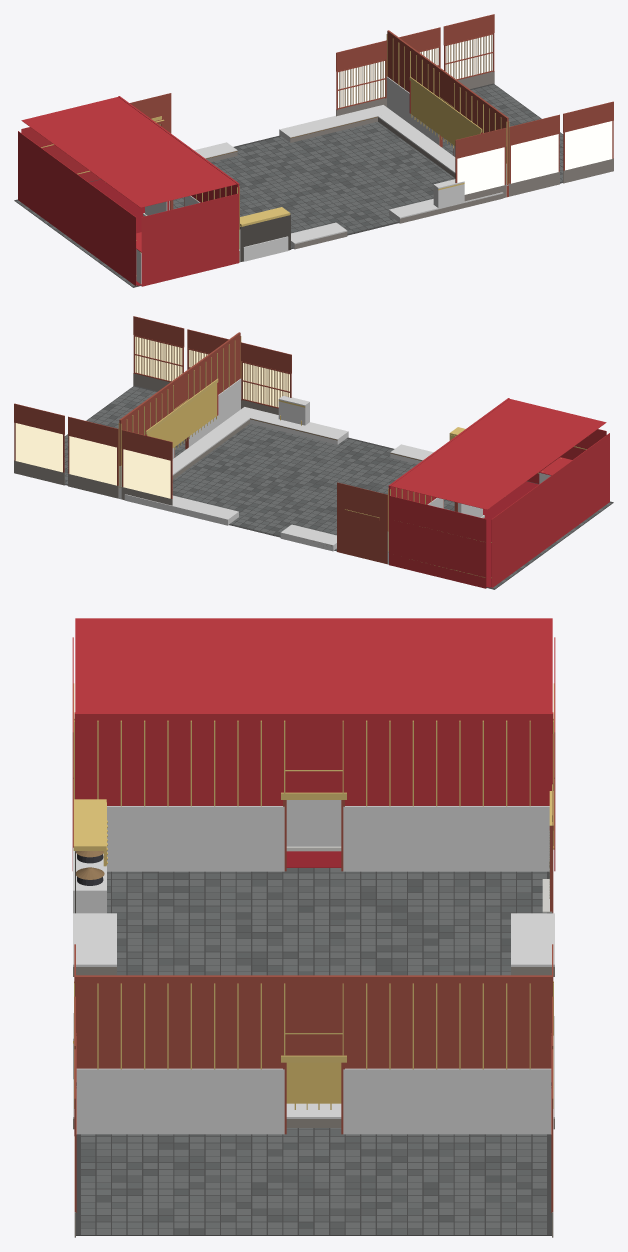
The model's file is kunning.glb.
3 renders of one model, top to bottom at view 1: azimuth 30°, elevation 25°; view 2: azimuth 150°, elevation 25°; view 3: azimuth 270°, elevation 25°, orthographic. The views are drawn at different scales.
Visible parts, largest first — view 1: merged_red_cloth, floor_tiles, merged_red_lacquer, merged_window_paper, floor_base, merged_kang_brick, merged_nanmu, merged_gold_lacquer, merged_yellow_silk, COL_kang_s_w, COL_kang_w, merged_soot_wall (+7 smaller); view 2: merged_red_cloth, floor_tiles, merged_red_lacquer, merged_window_paper, floor_base, merged_kang_brick, merged_nanmu, merged_gold_lacquer, merged_yellow_silk, COL_kang_n_w, COL_kang_s_w, COL_kang_w (+5 smaller); view 3: merged_red_cloth, floor_tiles, merged_red_lacquer, floor_base, COL_part_w_s, COL_part_w_n, COL_part_e_s, COL_part_e_n, merged_gold_lacquer, COL_screen, COL_kang_n_e, COL_kang_s_e (+5 smaller).
Part boxes in pixels (box(x1,y1,x2,y2)): merged_red_cloth: box(18, 80, 482, 286); floor_tiles: box(16, 84, 563, 286); merged_red_lacquer: box(130, 14, 613, 262); merged_window_paper: box(338, 34, 612, 194); floor_base: box(14, 83, 563, 287); merged_kang_brick: box(206, 71, 613, 249); merged_nanmu: box(159, 35, 492, 125); merged_gold_lacquer: box(41, 34, 509, 275); merged_yellow_silk: box(410, 81, 480, 145); COL_kang_s_w: box(279, 105, 393, 142); COL_kang_w: box(378, 112, 455, 173); merged_soot_wall: box(240, 214, 290, 261); merged_red_cloth: box(145, 382, 609, 588); floor_tiles: box(64, 386, 611, 588); merged_red_lacquer: box(14, 316, 457, 564); merged_window_paper: box(15, 336, 289, 498); floor_base: box(64, 385, 613, 589); merged_kang_brick: box(14, 373, 331, 546); merged_nanmu: box(135, 337, 288, 407); merged_gold_lacquer: box(118, 336, 586, 578); merged_yellow_silk: box(147, 383, 217, 447); COL_kang_n_w: box(234, 407, 348, 444); COL_kang_s_w: box(124, 494, 238, 525); COL_kang_w: box(172, 414, 249, 475); merged_red_cloth: box(72, 618, 555, 871); floor_tiles: box(81, 868, 546, 1234); merged_red_lacquer: box(74, 734, 553, 1212); floor_base: box(76, 868, 552, 1235); COL_part_w_s: box(343, 1068, 551, 1134); COL_part_w_n: box(76, 1068, 284, 1134); COL_part_e_s: box(343, 806, 549, 871); COL_part_e_n: box(107, 806, 284, 871); merged_gold_lacquer: box(73, 683, 554, 1109); COL_screen: box(286, 800, 341, 846); COL_kang_n_e: box(73, 913, 116, 966); COL_kang_s_e: box(511, 913, 554, 966).
Bounding box in the file's own units: 45.59 × 7.16 × 19.82.
